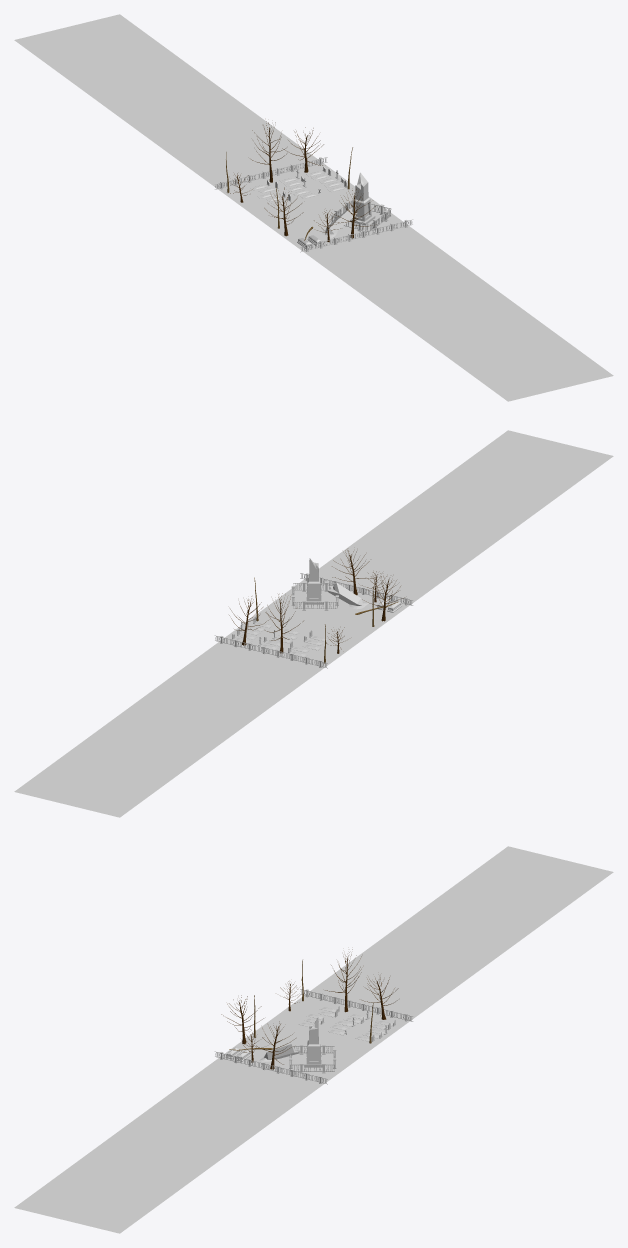
3 views of the same model, one above another, from view 1: azimuth 30°, elevation 25°; view 2: azimuth 150°, elevation 25°; view 3: azimuth 330°, elevation 25° (orthographic).
Parts seen in each view (by area): view 1: Plane001, Box009, GY102; view 2: Plane001, Box009, GY102; view 3: Plane001, GY102, Box009.
Part boxes in pixels (box(x1,y1,x2,y2)): Plane001: box(14, 14, 613, 401); Box009: box(325, 172, 375, 234); GY102: box(214, 157, 413, 252); Plane001: box(14, 430, 613, 817); Box009: box(304, 558, 363, 605); GY102: box(214, 573, 413, 668); Plane001: box(14, 846, 613, 1233); GY102: box(214, 989, 413, 1084); Box009: box(264, 1017, 323, 1067).
Bounding box in the file's own units: 1180 × 586 × 8000.
